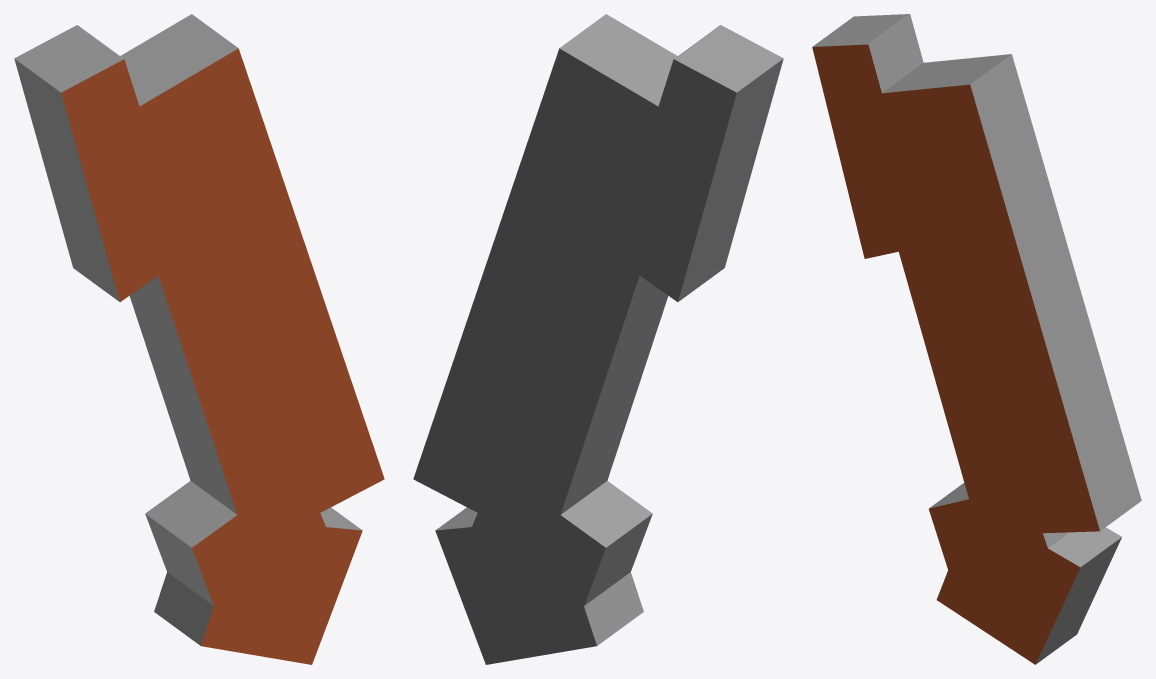
The model's file is construction_6675_assumed_A_Casa_h6m.obj.
3 views of the same model, side by side, from view 1: azimuth 30°, elevation 25°; view 2: azimuth 150°, elevation 25°; view 3: azimuth 330°, elevation 25° (orthographic). The views are drawn at different scales.
Visible parts, largest first — view 1: construction_6675_assumed_A_Casa; view 2: construction_6675_assumed_A_Casa; view 3: construction_6675_assumed_A_Casa.
Part boxes in pixels (<box>): construction_6675_assumed_A_Casa: <box>14,14,384,664</box>; construction_6675_assumed_A_Casa: <box>413,14,783,664</box>; construction_6675_assumed_A_Casa: <box>812,14,1141,664</box>.
Size of the model in its own units: 23.92 by 46 by 6.
